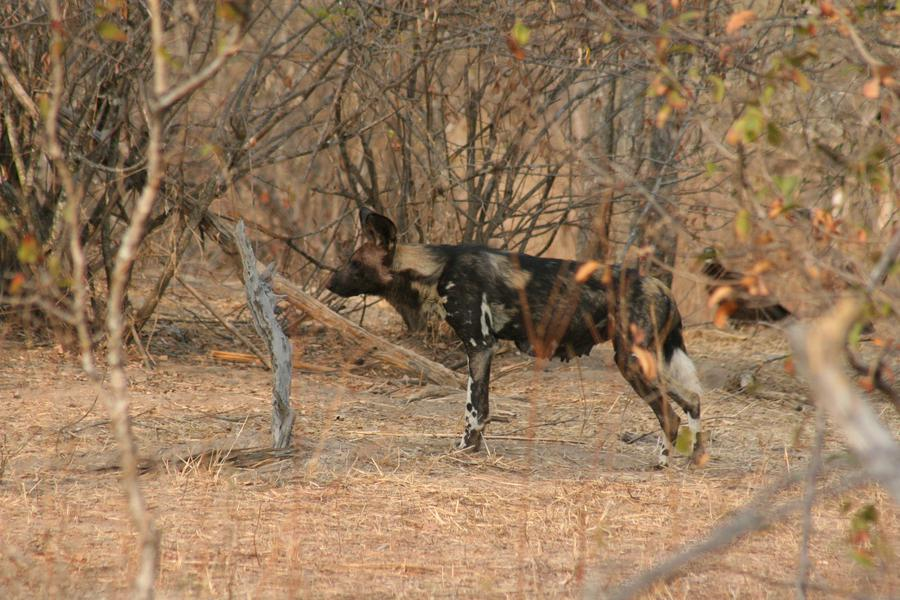wilddog: (333, 212, 663, 391)
